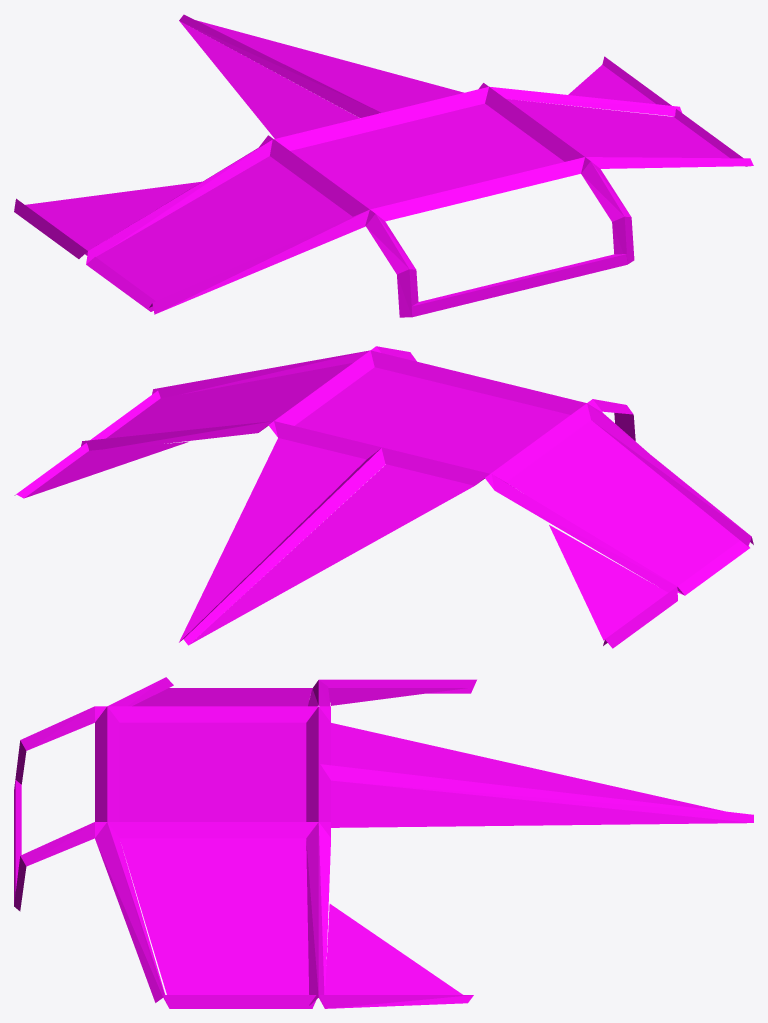
The model's file is gnomeglider.obj.
3 views of the same model, one above another, from view 1: azimuth 30°, elevation 25°; view 2: azimuth 150°, elevation 25°; view 3: azimuth 270°, elevation 25° (orthographic). The views are drawn at different scales.
Parts seen in each view (by area): view 1: gnomeglider_back; view 2: gnomeglider_back; view 3: gnomeglider_back.
Part boxes in pixels (x1,y1,x2,y2): gnomeglider_back: (14,14,753,317); gnomeglider_back: (14,346,753,648); gnomeglider_back: (14,677,753,1008).
Size of the model in its own units: 4.88 by 0.6 by 4.76.
